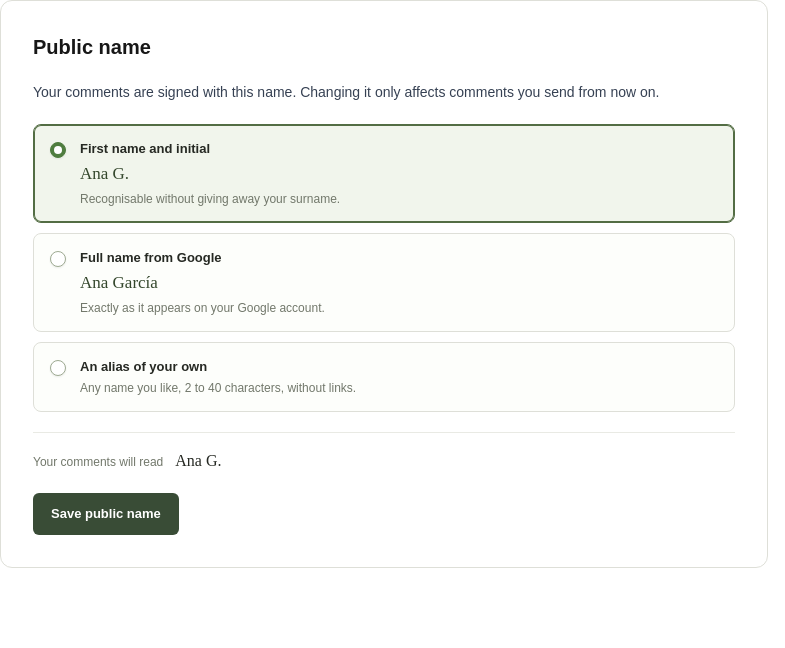
Scenario: PublicNameSettings › explains a refusal ({})
Click the button "Save public name": (106, 514) [33,493,179,535]
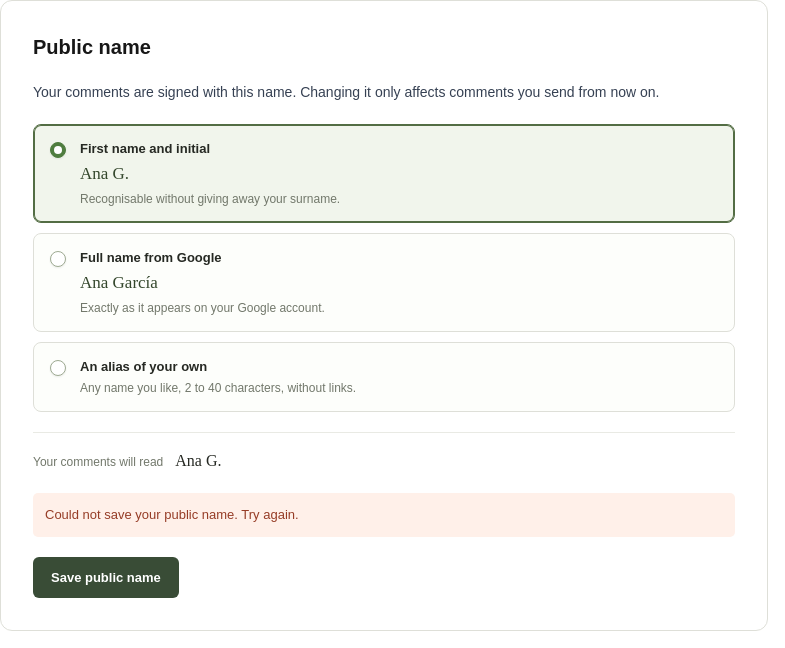
Expected: the message shows "Could not save your public name", [45,507,299,522]
